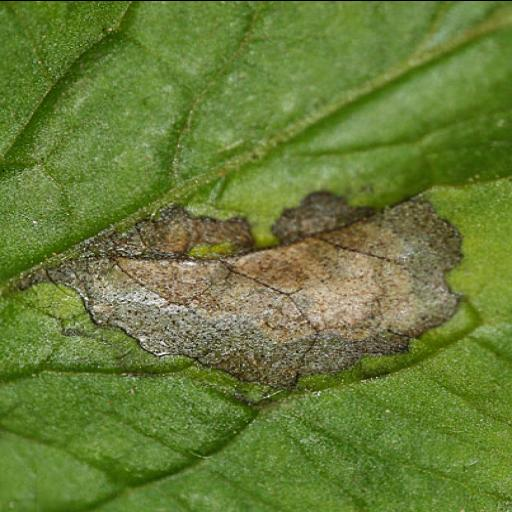disease_tomato: (2, 0, 504, 509)
